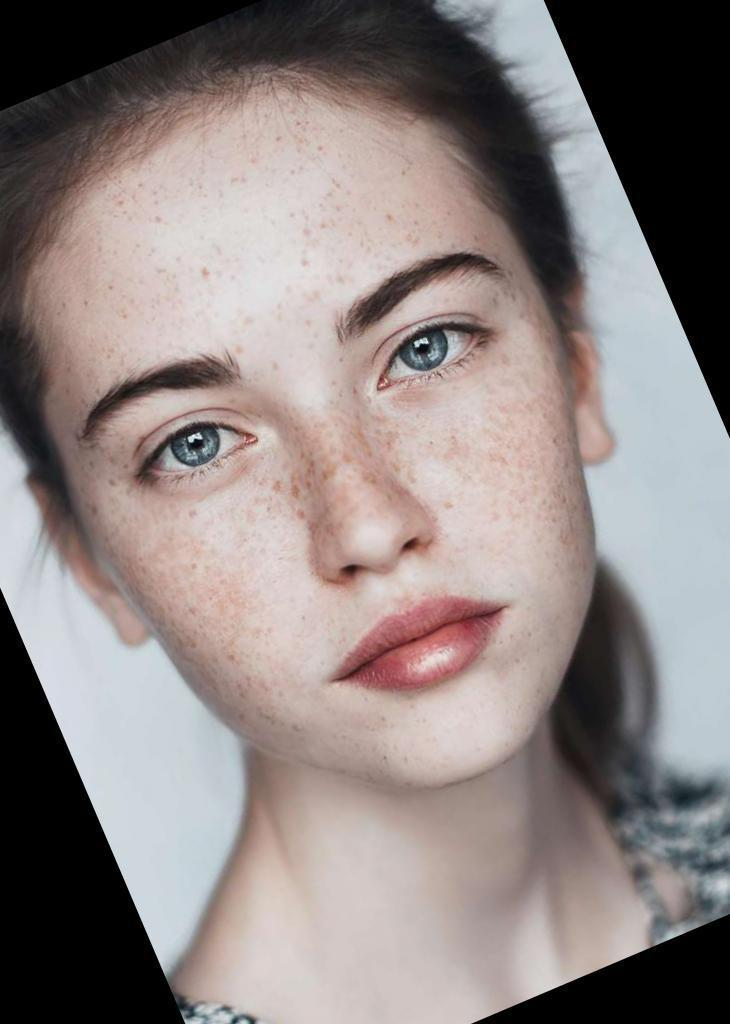Sober: (69, 156, 565, 737)
